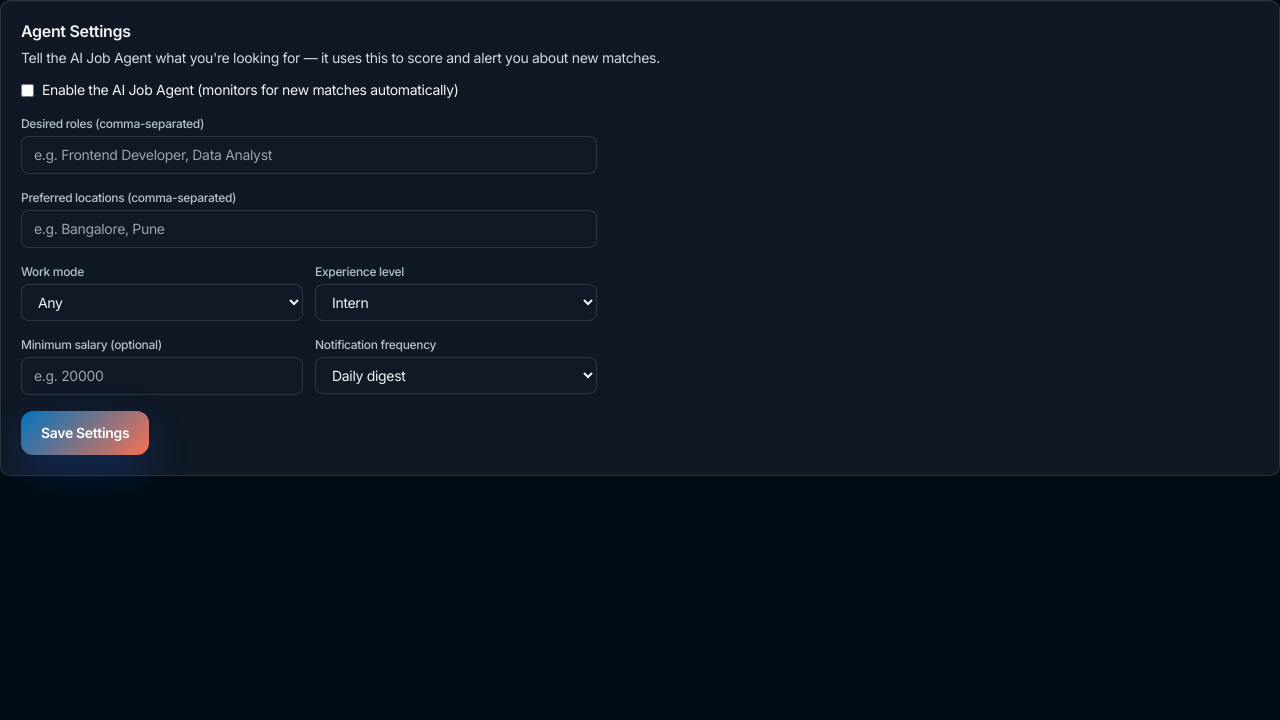
Scenario: JobAgentSettingsPage › saving normalizes comma-separated fields into trimmed arrays and reports success
The width and height of the screenshot is (1280, 720).
Check: the button "Save Settings" is shown, box [21,411,149,455]
Click the checkbox labelled "Enable the AI Job Agent" at (28, 90), box [21,84,34,97]
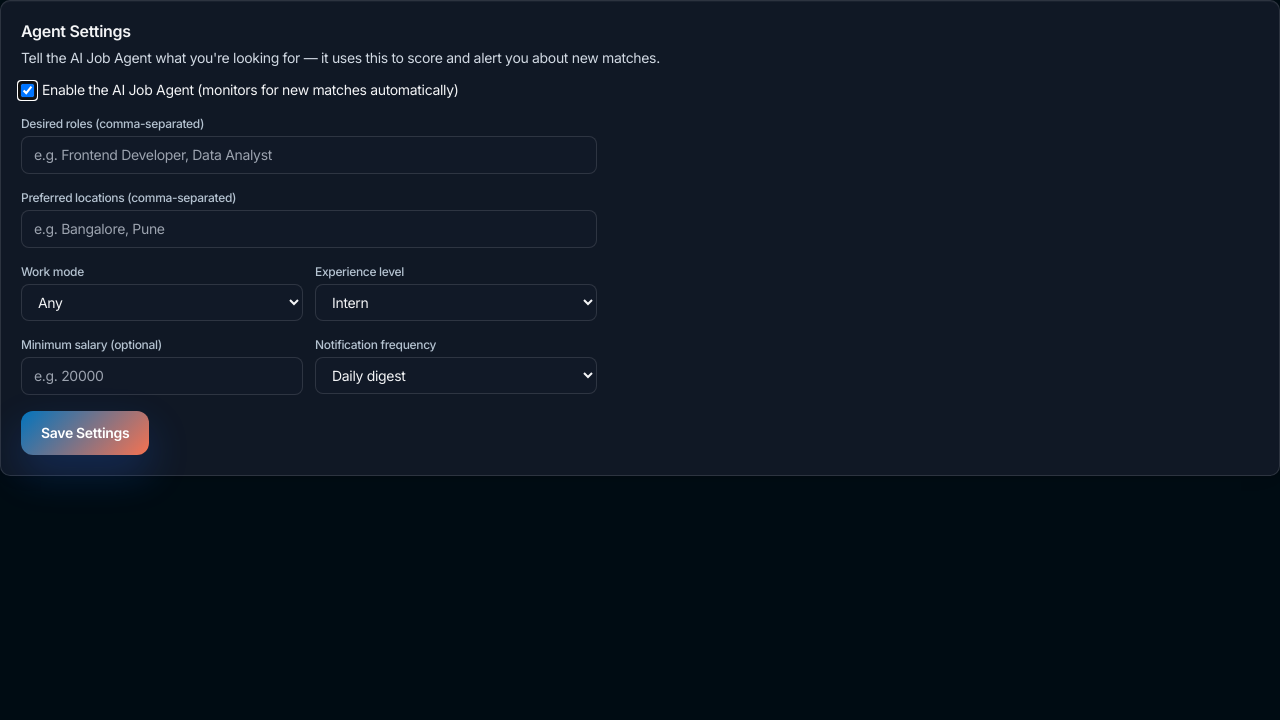
Type " Frontend Developer ,  Backend Developer " into the field with placeholder "e.g. Frontend Developer, Data Analyst" at (309, 155), box [21,136,597,174]
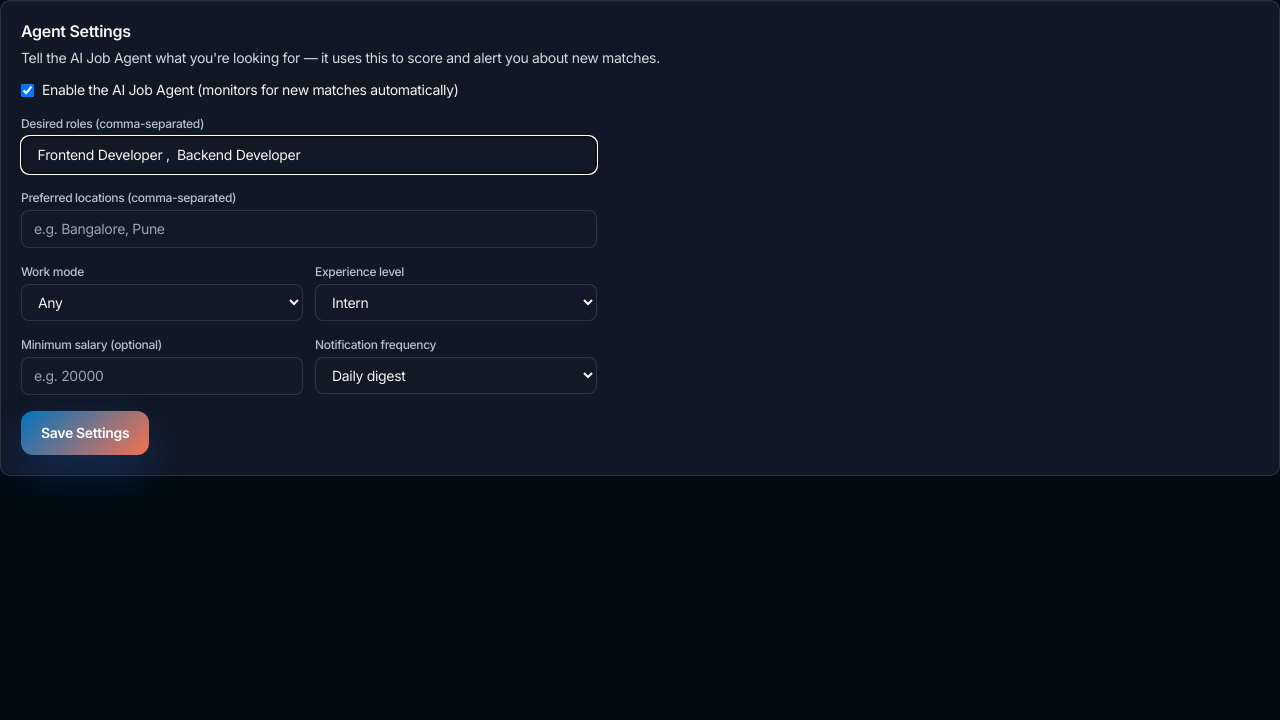
Type "Remote, , Pune" into the field with placeholder "e.g. Bangalore, Pune" at (309, 229), box [21,210,597,248]
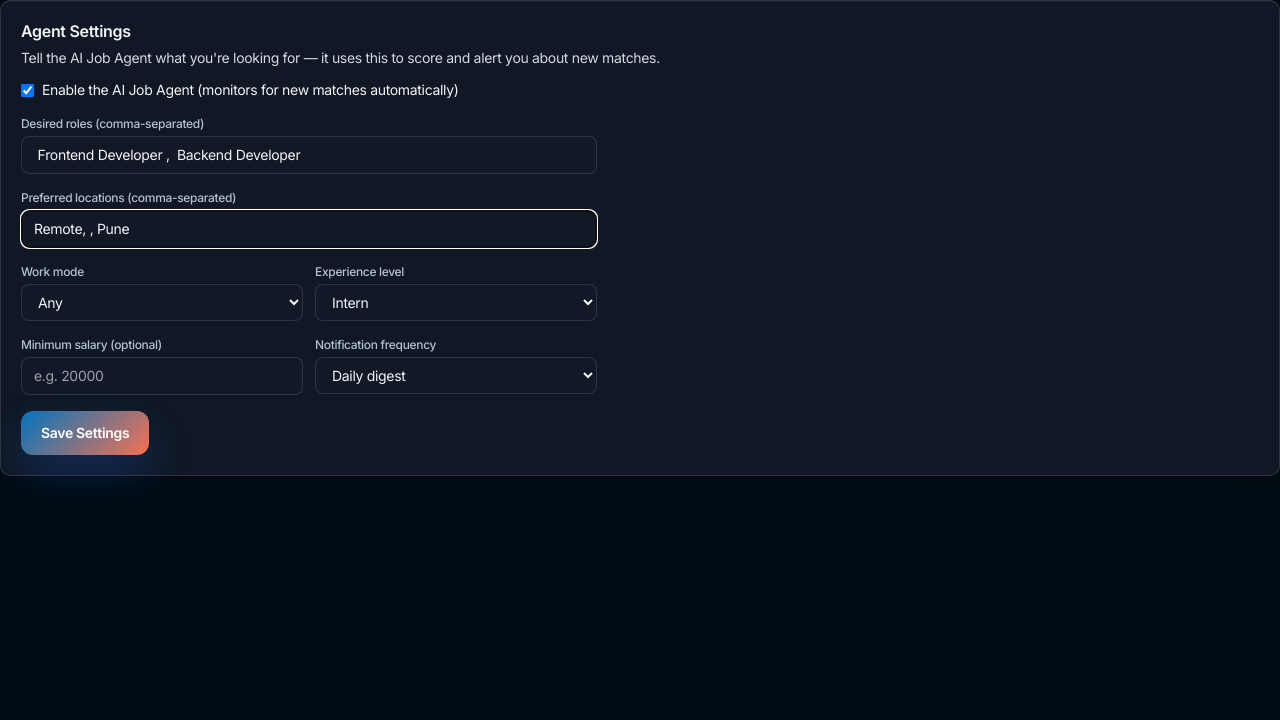
Click the button "Save Settings" at (85, 433), box [21,411,149,455]
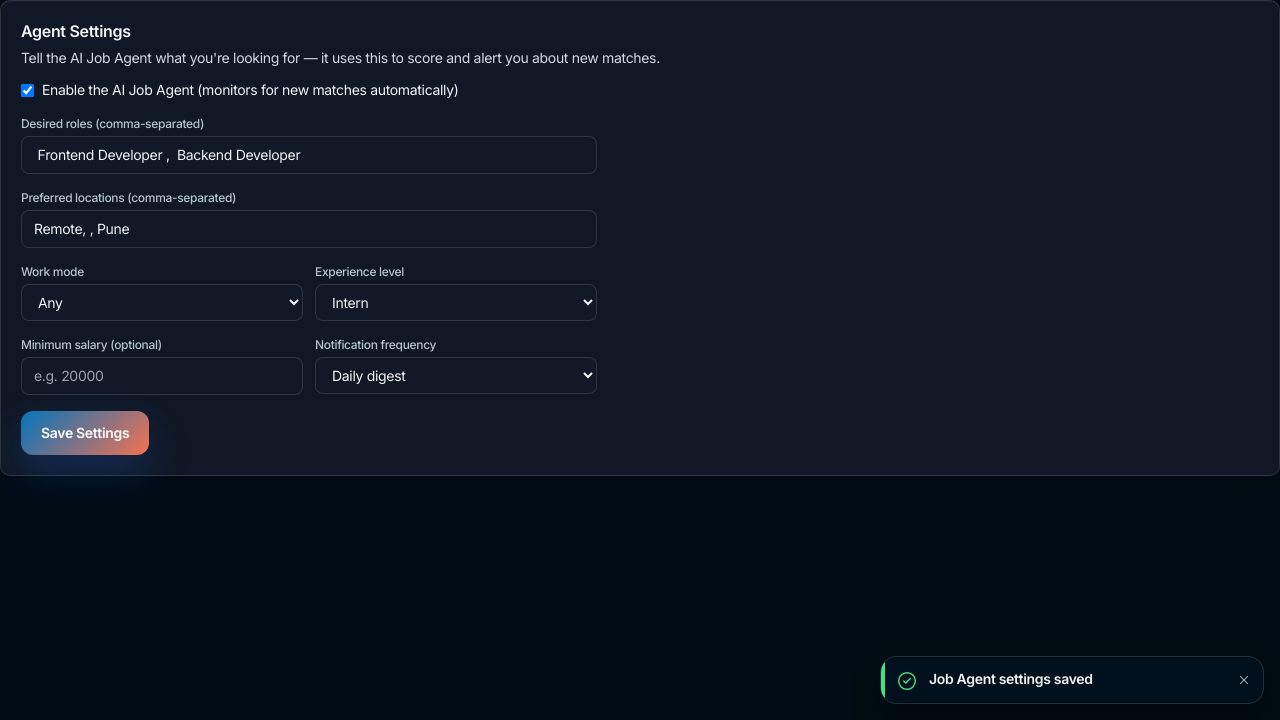
Check: the text "Job Agent settings saved" is shown, box [929,669,1093,689]
